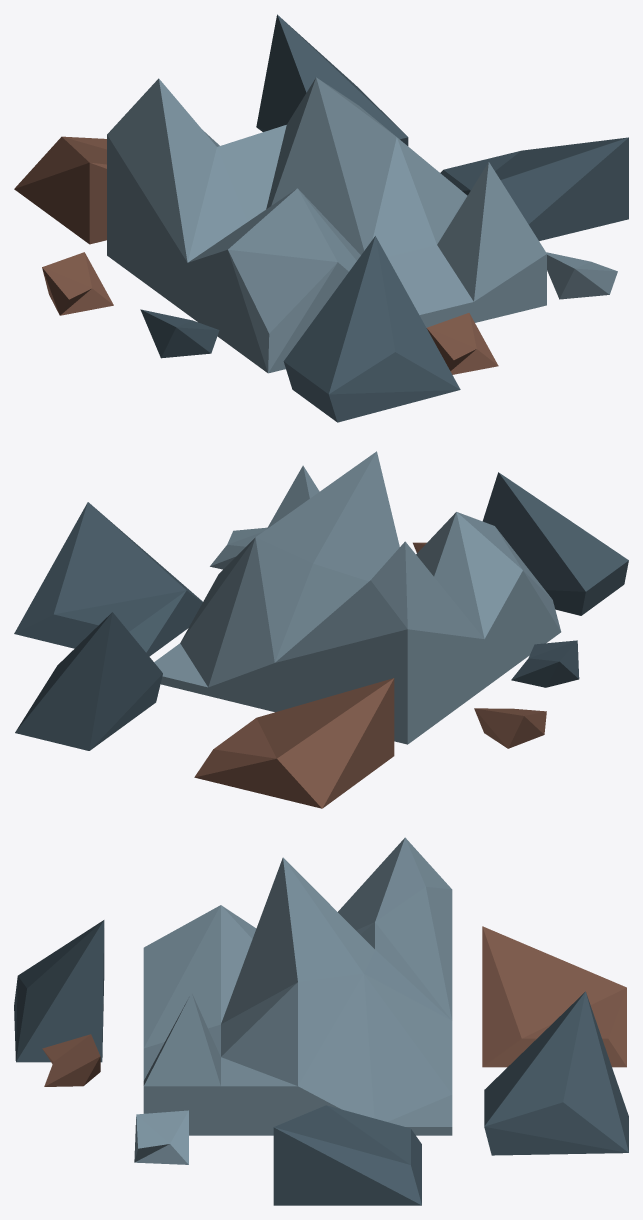
The model's file is Rubble_Rocks.glb.
3 views of the same model, one above another, from view 1: azimuth 30°, elevation 25°; view 2: azimuth 150°, elevation 25°; view 3: azimuth 270°, elevation 25° (orthographic). The views are drawn at different scales.
Visible parts, largest first — view 1: group677962316, group1286736455, group659207845, group1908968277, group521626300, group1287674282, group899512959, group619417188, group491183715; view 2: group677962316, group1908968277, group659207845, group521626300, group1286736455, group619417188, group1287674282, group491183715; view 3: group677962316, group521626300, group659207845, group1908968277, group1286736455, group491183715, group899512959.
Boxes of the visible parts, x1,y1,x2,y2 form: group677962316: (107,77,546,373); group1286736455: (283,236,460,422); group659207845: (440,137,628,240); group1908968277: (14,136,106,244); group521626300: (256,14,408,145); group1287674282: (42,252,113,315); group899512959: (426,313,498,374); group619417188: (140,309,219,358); group491183715: (546,252,617,299); group677962316: (154,451,561,744); group1908968277: (194,678,394,808); group659207845: (14,502,202,656); group521626300: (15,612,162,750); group1286736455: (482,472,628,615); group619417188: (511,640,579,687); group1287674282: (474,708,546,748); group491183715: (210,527,266,569); group677962316: (143,837,452,1135); group521626300: (484,991,628,1155); group659207845: (273,1105,421,1205); group1908968277: (482,926,626,1067); group1286736455: (14,920,104,1062); group491183715: (134,1110,188,1164); group899512959: (42,1034,100,1086).
Size of the model in its own units: 3.08 by 1.21 by 3.27.
